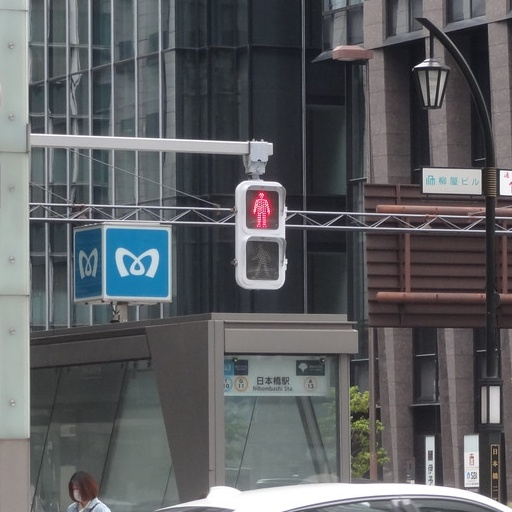Pedestrian_Signal_Red: (230, 172, 293, 297)
